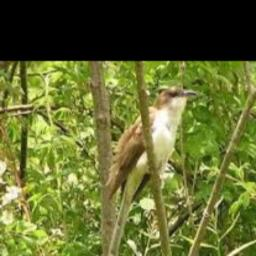Cuckoo: (105, 88, 198, 199)
